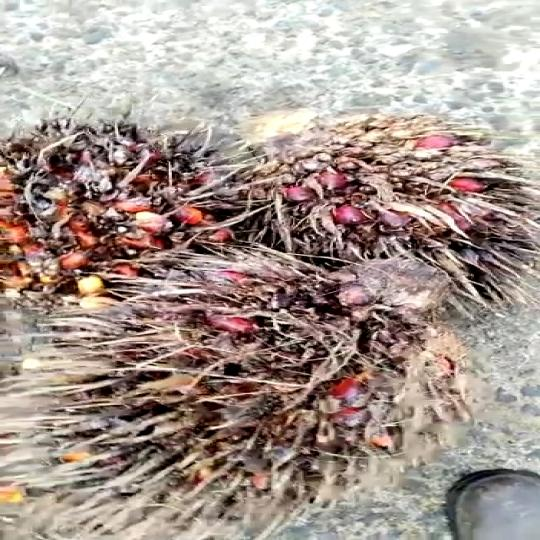terlalu masak: (0, 249, 469, 540), (196, 117, 540, 295)
